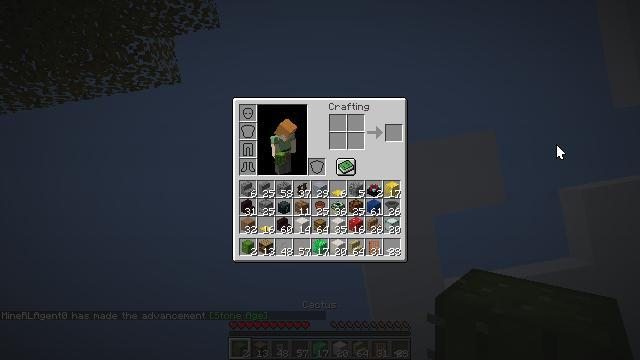cursor: (556, 144, 566, 160)
